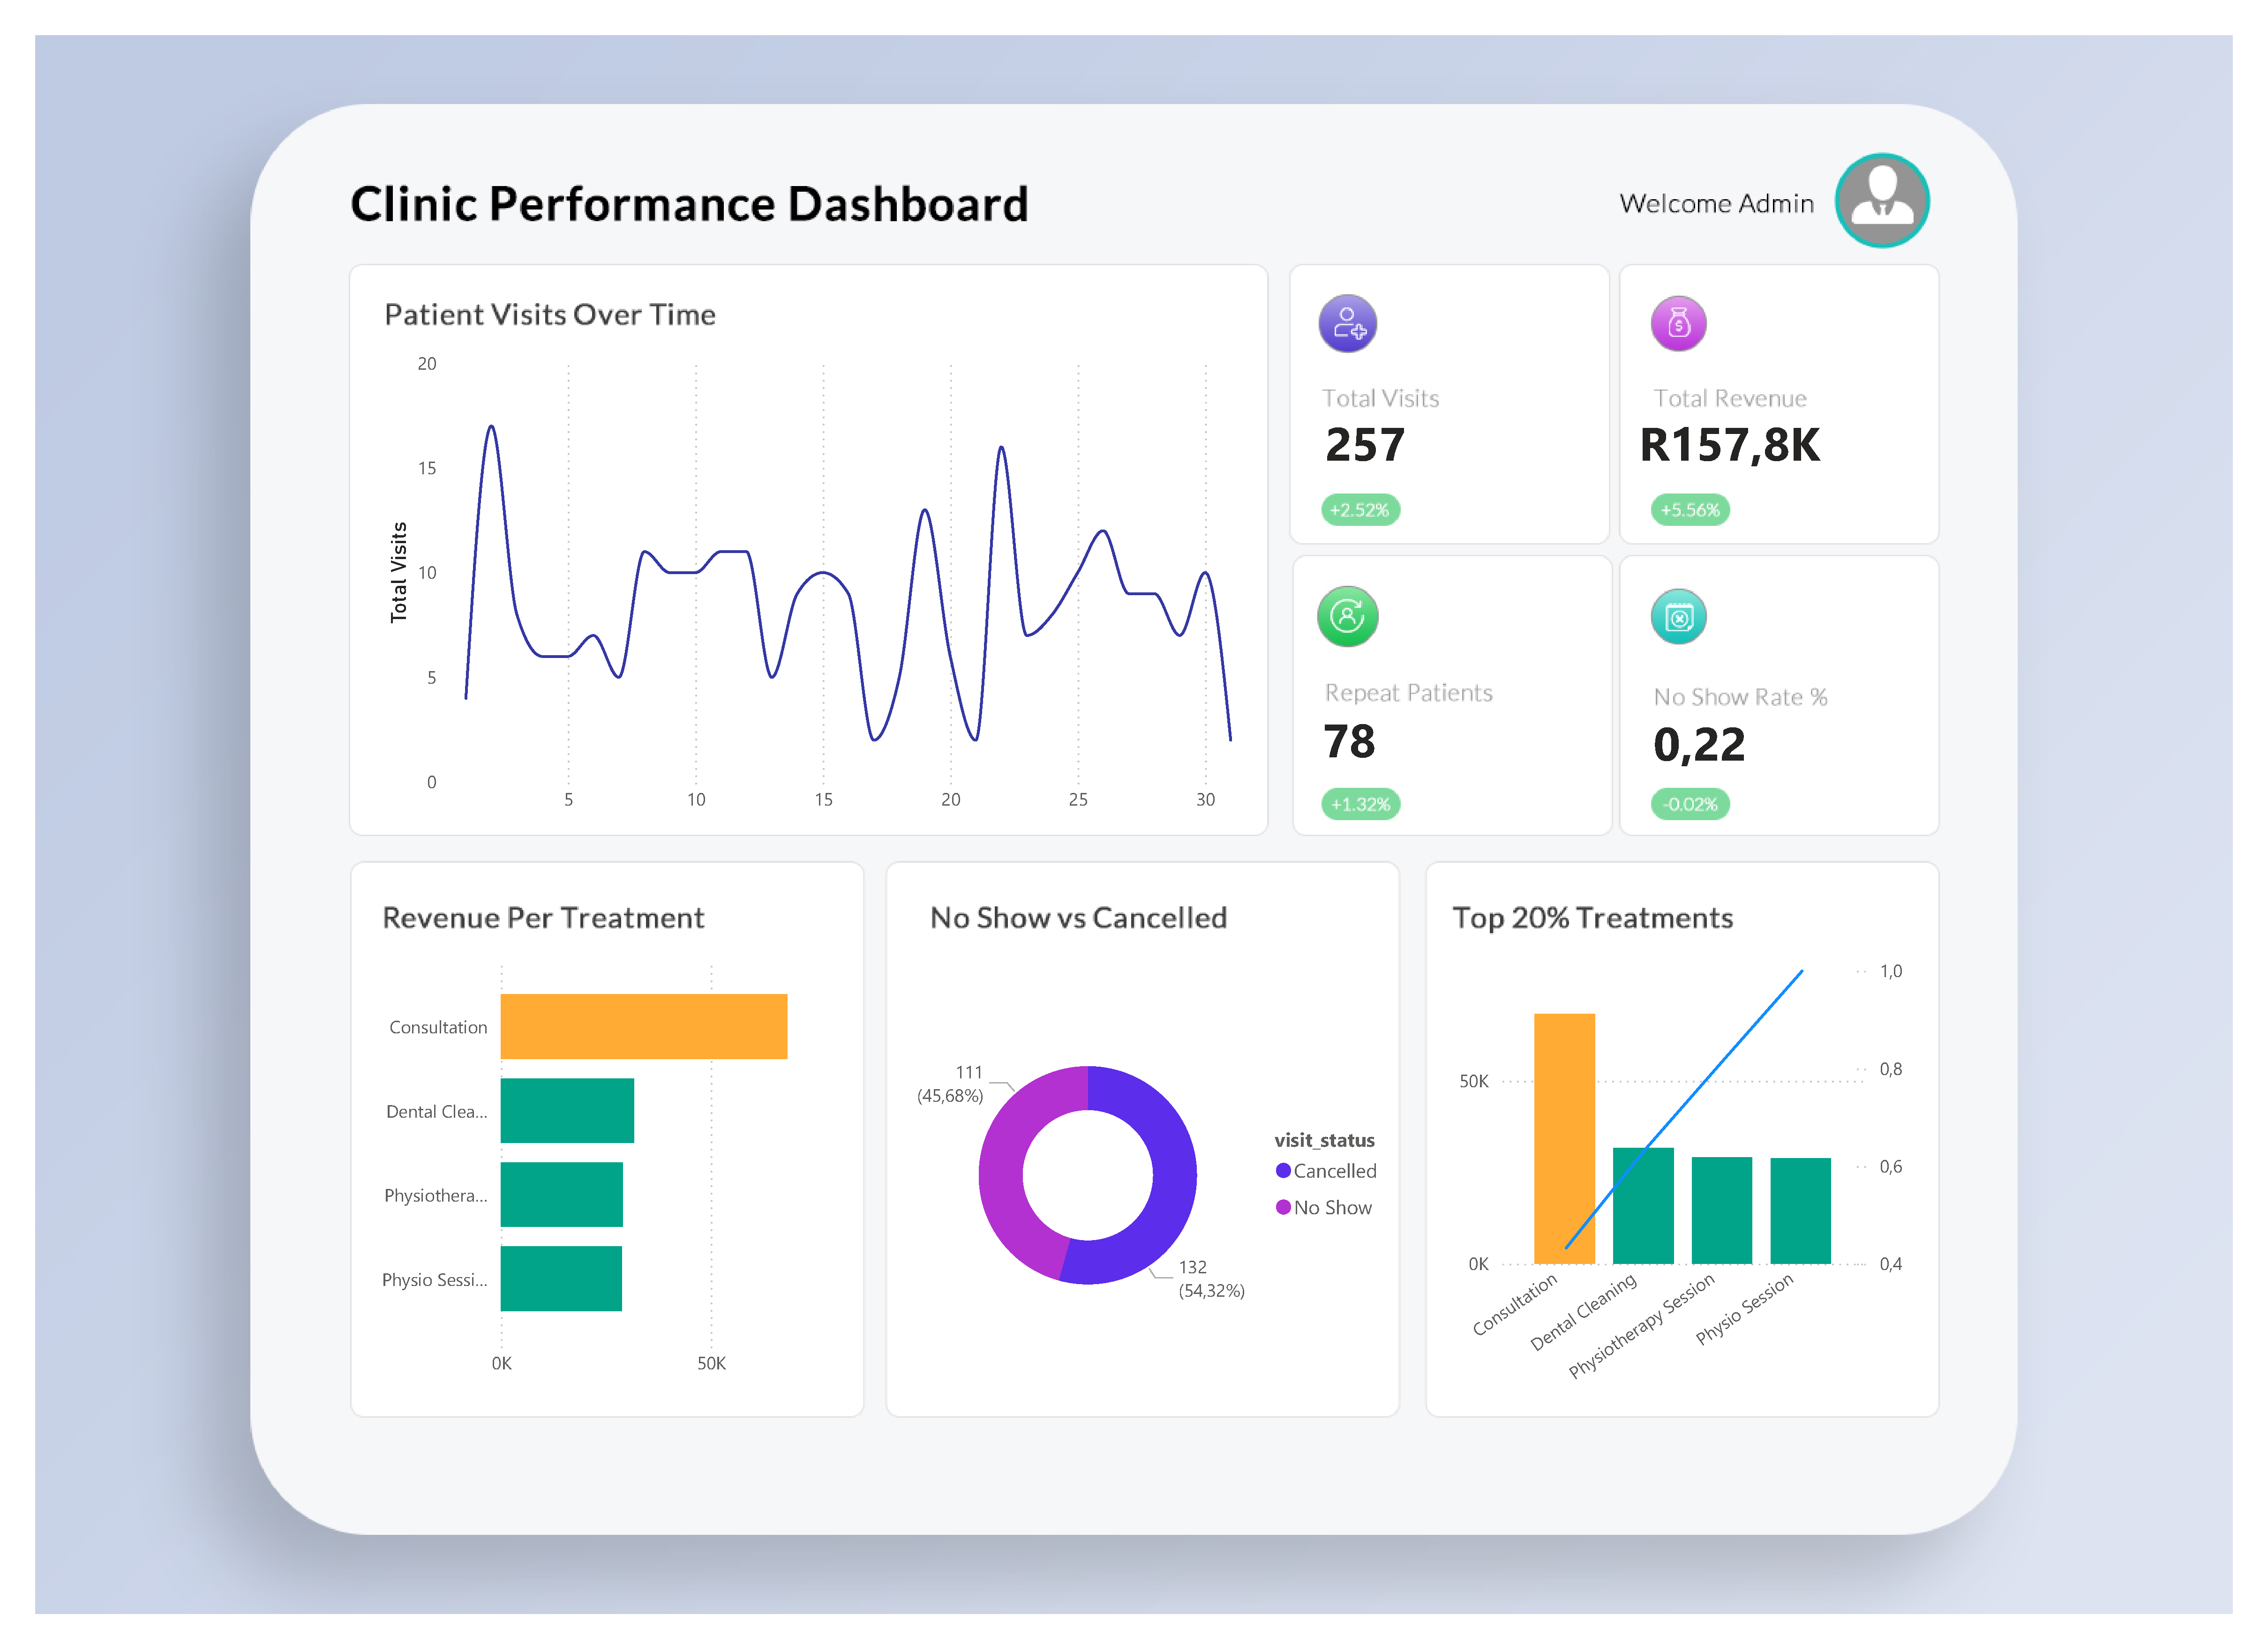

The dashboard page shown, as its layout file describes it:
{"tool":"powerbi","page":{"name":"Page 1","canvas":[1500,1080],"ordinal":0},"visuals":[{"type":"card","fields":{"Values":["Sum(vw_patient_visits.total_visits)"]},"box":[803.7,187.1,208.5,183.3],"z":0},{"type":"card","fields":{"Values":["Sum(vw_revenue_per_treatment.total_revenue)"]},"box":[1052.4,187.1,208.5,183.3],"z":1000},{"type":"card","fields":{"Values":["CountNonNull(vw_repeat_patients.patient_id)"]},"box":[792.4,389.3,209.7,183.3],"z":2000},{"type":"card","fields":{"Values":["vw_no_show_cancellation.No Show Rate %"]},"box":[1032.3,391.8,208.5,183.3],"z":3000},{"type":"lineChart","fields":{"Category":["vw_patient_visits.visit_day.Variation.Date Hierarchy.Year","vw_patient_visits.visit_day.Variation.Date Hierarchy.Quarter","vw_patient_visits.visit_day.Variation.Date Hierarchy.Month","vw_patient_visits.visit_day.Variation.Date Hierarchy.Day"],"Y":["Sum(vw_patient_visits.total_visits)"]},"box":[235,210,596.2,330],"z":4000},{"type":"clusteredBarChart","fields":{"Y":["Sum(vw_treatment_revenue_pareto.total_revenue)"],"Category":["vw_treatment_revenue_pareto.treatment_name"]},"box":[220,619,342,306],"z":5000},{"type":"donutChart","fields":{"Category":["visits.visit_status"],"Y":["CountNonNull(visits.visit_status)"]},"box":[586,619,351,319],"z":6000},{"type":"lineClusteredColumnComboChart","fields":{"Category":["vw_treatment_revenue_pareto.treatment_name"],"Y":["vw_treatment_revenue_pareto.Total Revenue"],"Y2":["vw_treatment_revenue_pareto.Cumulative Revenue %"]},"box":[961.2,625,318.8,307.5],"z":7000}]}

Visuals, with their boxes on the page's 1500x1080 design canvas (x1, y1, x2, y2). These are canvas units, not pixel positions in the 2268x1652 screenshot, which may show the page scaled, cropped or inside an application window:
card - Sum(vw_patient_visits.total_visits): 804:187:1012:370
card - Sum(vw_revenue_per_treatment.total_revenue): 1052:187:1261:370
card - CountNonNull(vw_repeat_patients.patient_id): 792:389:1002:573
card - vw_no_show_cancellation.No Show Rate %: 1032:392:1241:575
lineChart - vw_patient_visits.visit_day.Variation.Date Hierarchy.Year x vw_patient_visits.visit_day.Variation.Date Hierarchy.Quarter: 235:210:831:540
clusteredBarChart - Sum(vw_treatment_revenue_pareto.total_revenue) x vw_treatment_revenue_pareto.treatment_name: 220:619:562:925
donutChart - visits.visit_status x CountNonNull(visits.visit_status): 586:619:937:938
lineClusteredColumnComboChart - vw_treatment_revenue_pareto.treatment_name x vw_treatment_revenue_pareto.Total Revenue: 961:625:1280:932
